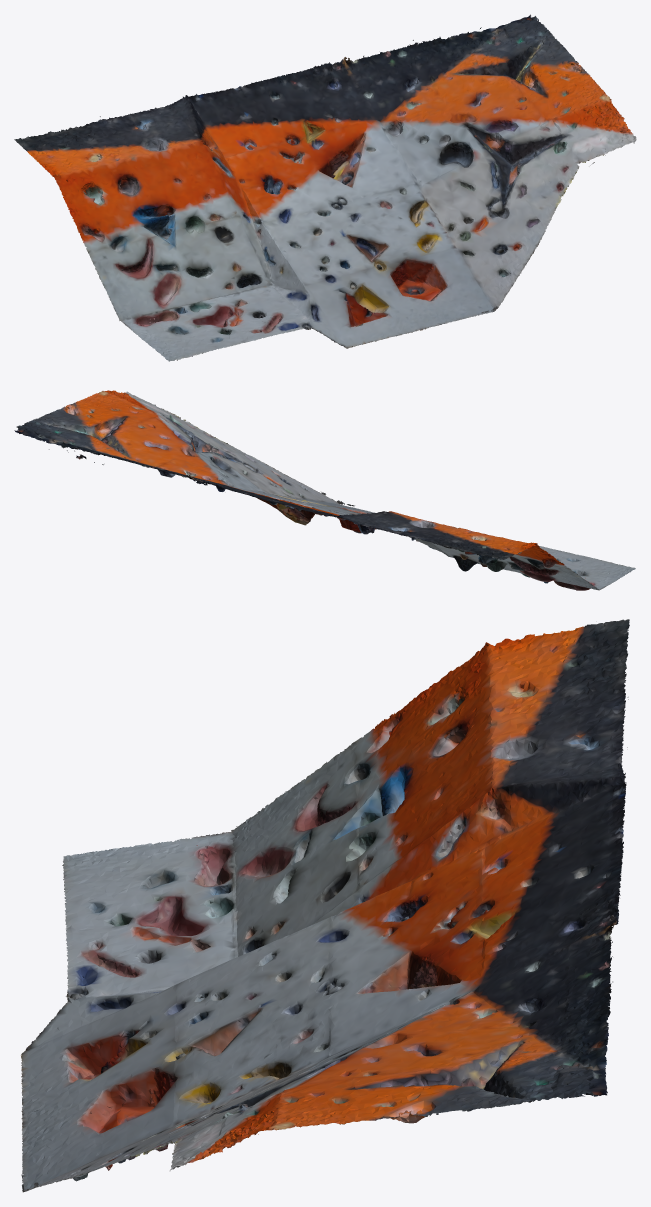
File: PlaquitaPeru23-02.obj
3 views of the same model, one above another, from view 1: azimuth 30°, elevation 25°; view 2: azimuth 150°, elevation 25°; view 3: azimuth 270°, elevation 25° (orthographic). The views are drawn at different scales.
Size of the model in its own units: 10.26 by 2.76 by 5.44.
